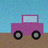vehicle: (11, 15, 43, 40)
